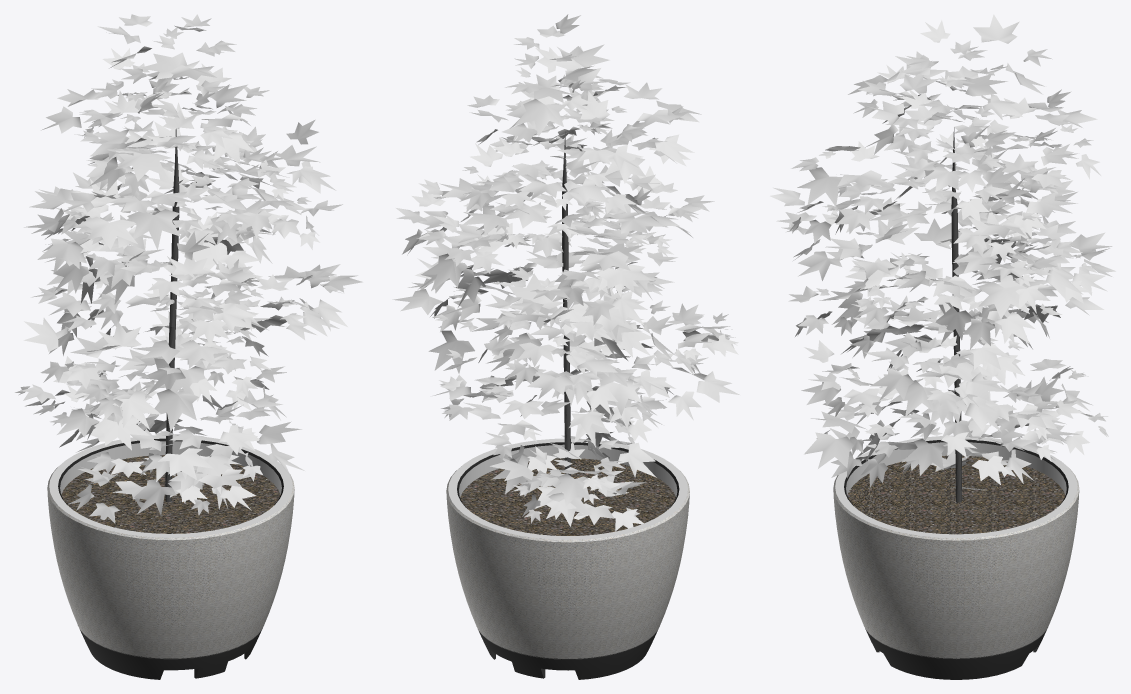
The model's file is РастениеЧБ.fbx.
3 renders of one model, left to right at view 1: azimuth 30°, elevation 25°; view 2: azimuth 150°, elevation 25°; view 3: azimuth 270°, elevation 25°, orthographic.
Visible parts, largest first — view 1: Group1, Difference; view 2: Group1, Difference; view 3: Group1, Difference.
Part boxes in pixels (box(x1,y1,x2,y2)): Group1: box(15, 14, 362, 523); Difference: box(47, 435, 294, 679); Group1: box(392, 14, 739, 531); Difference: box(446, 438, 689, 679); Group1: box(770, 14, 1115, 502); Difference: box(833, 435, 1079, 679).
Bounding box in the file's own units: 974 × 1793 × 903.
